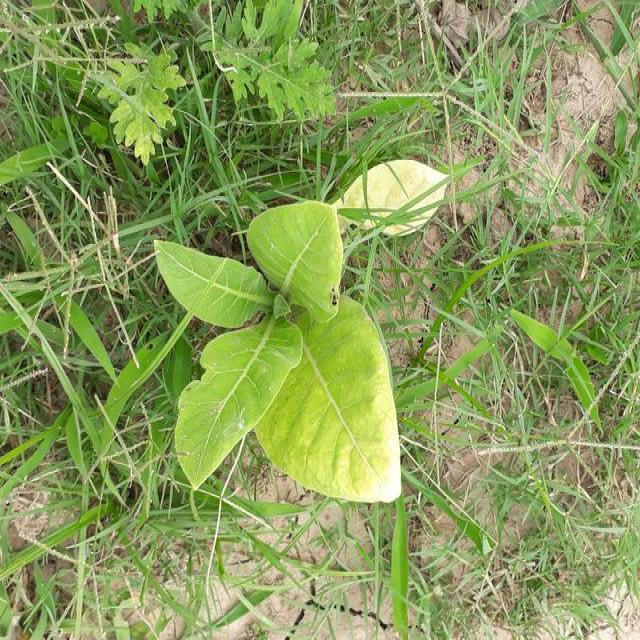crop: (131, 205, 409, 497)
